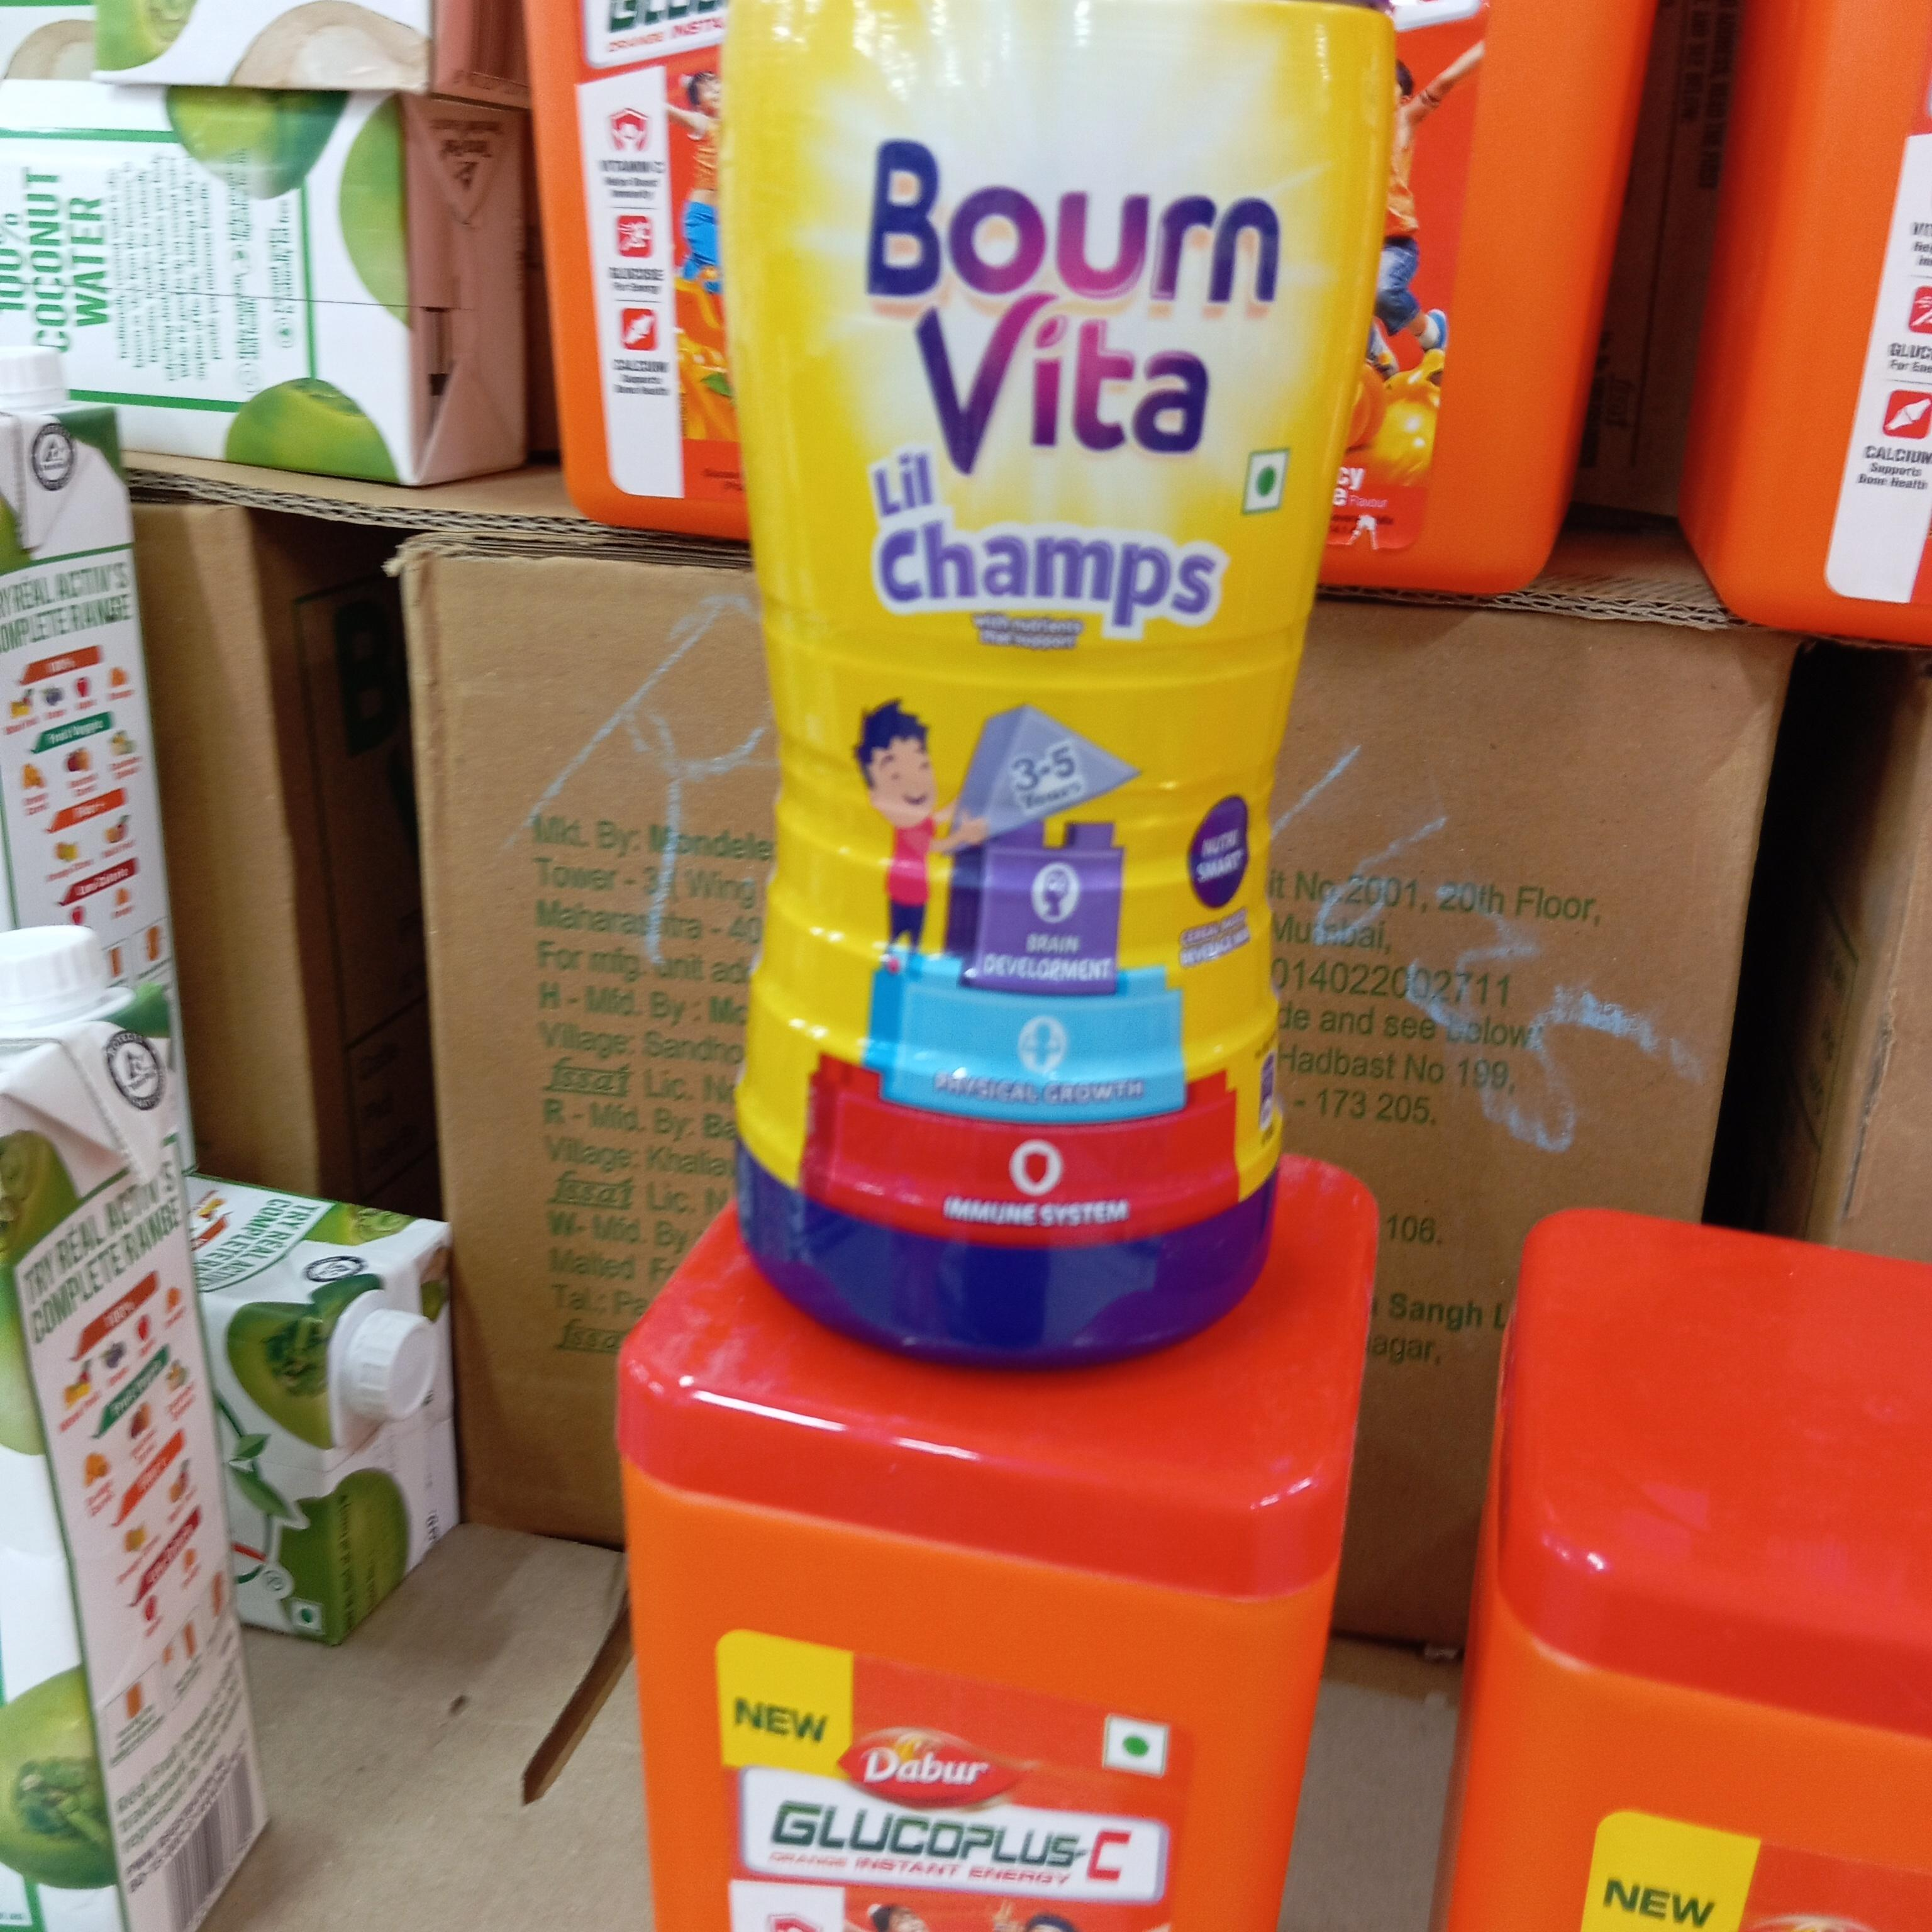BOURN_VITA_CHAMPS_500_G_JAR: (708, 0, 1403, 1375)
